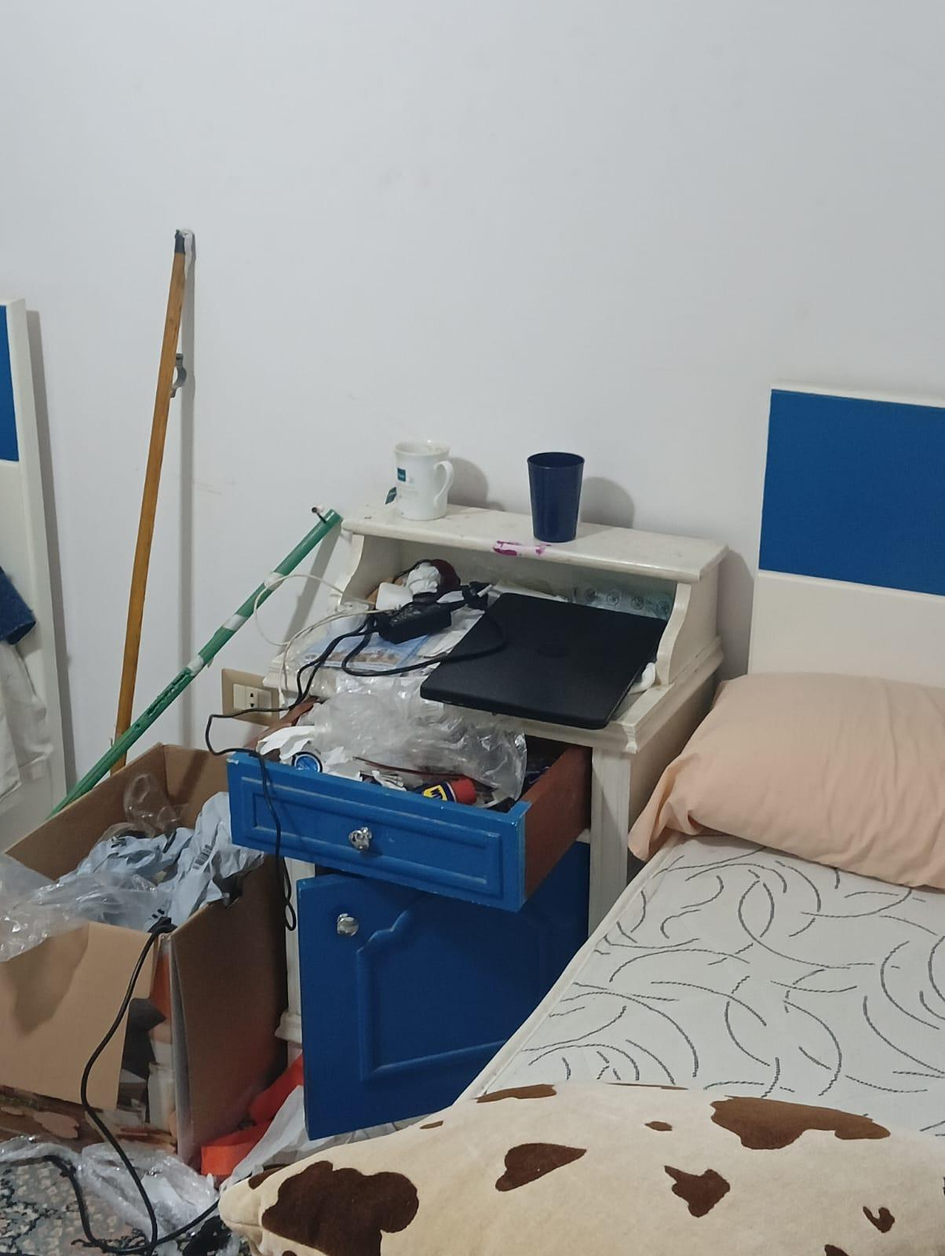cup: (527, 451, 584, 542), (395, 441, 453, 520)
